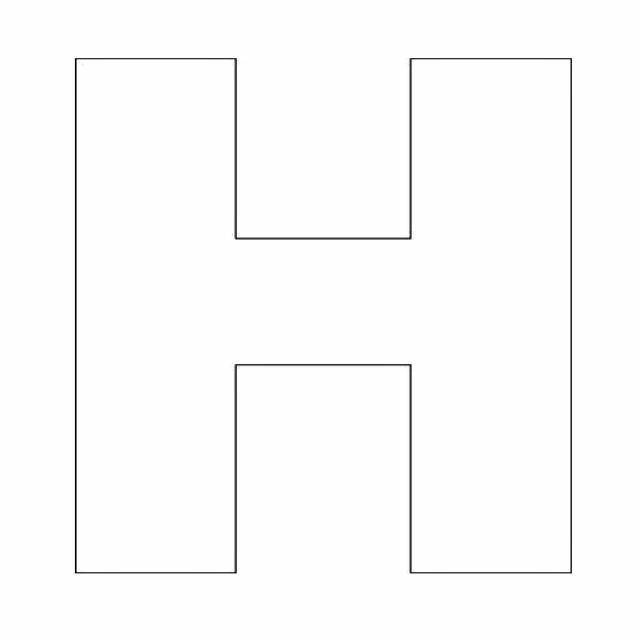H: (39, 16, 604, 622)
